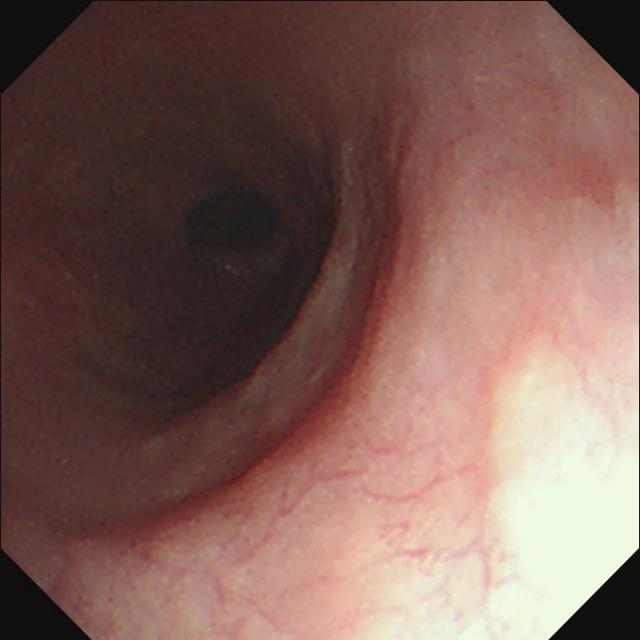E: (171, 169, 288, 277)
